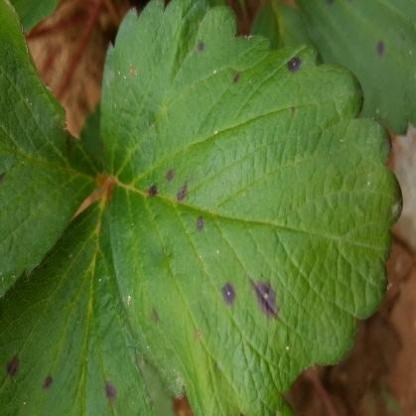Strawberry_Leaf_Spot: (100, 0, 404, 415), (0, 197, 175, 415), (0, 0, 102, 300), (250, 0, 416, 138)
